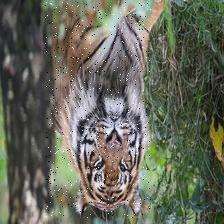tiger: (45, 1, 151, 217)
